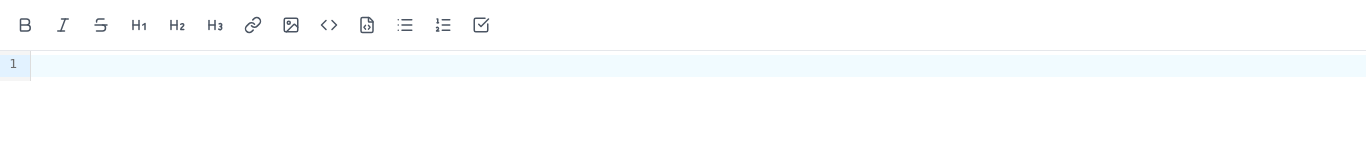
Test: EditorWithToolbar - 커서 위치 삽입 (통합 테스트, DEV-019) › 커서 위치 기준 삽입 › 빈 문서에서 Bold 클릭 시 정상 삽입되어야 함
Click the button named "굵게" at [25, 25], box [8,8,42,42]
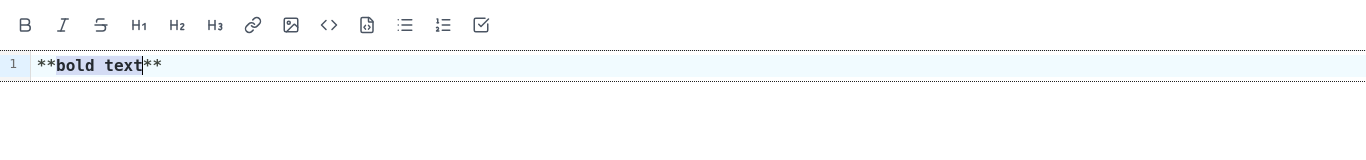
Result: the text box labelled "**bold text**" is shown at [31,55,1365,77]
